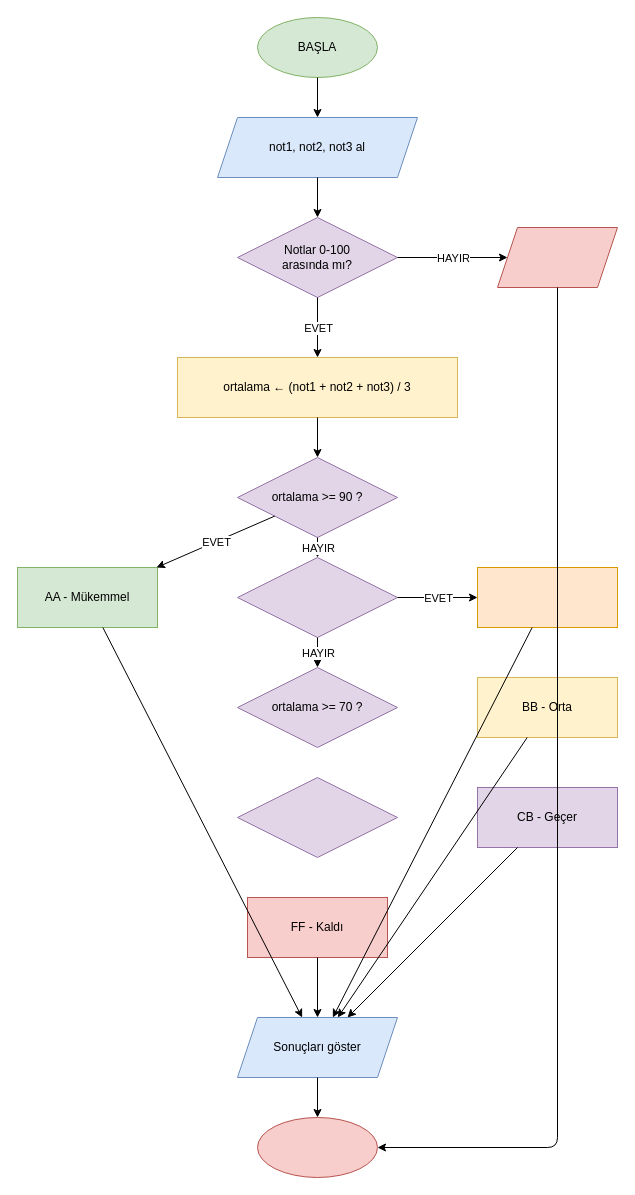
Some shapes in this 635 by 1195 pixel diagram are drawn without their labels. The shapes that lost their labels are listed below. From the top down, each one's centre as x and y in pixels, then its label:
pixel 557 257: "HATA"
pixel 317 597: ortalama >= 80 ?
pixel 547 597: BA - İyi
pixel 317 817: ortalama >= 60 ?
pixel 317 1147: BITIR
